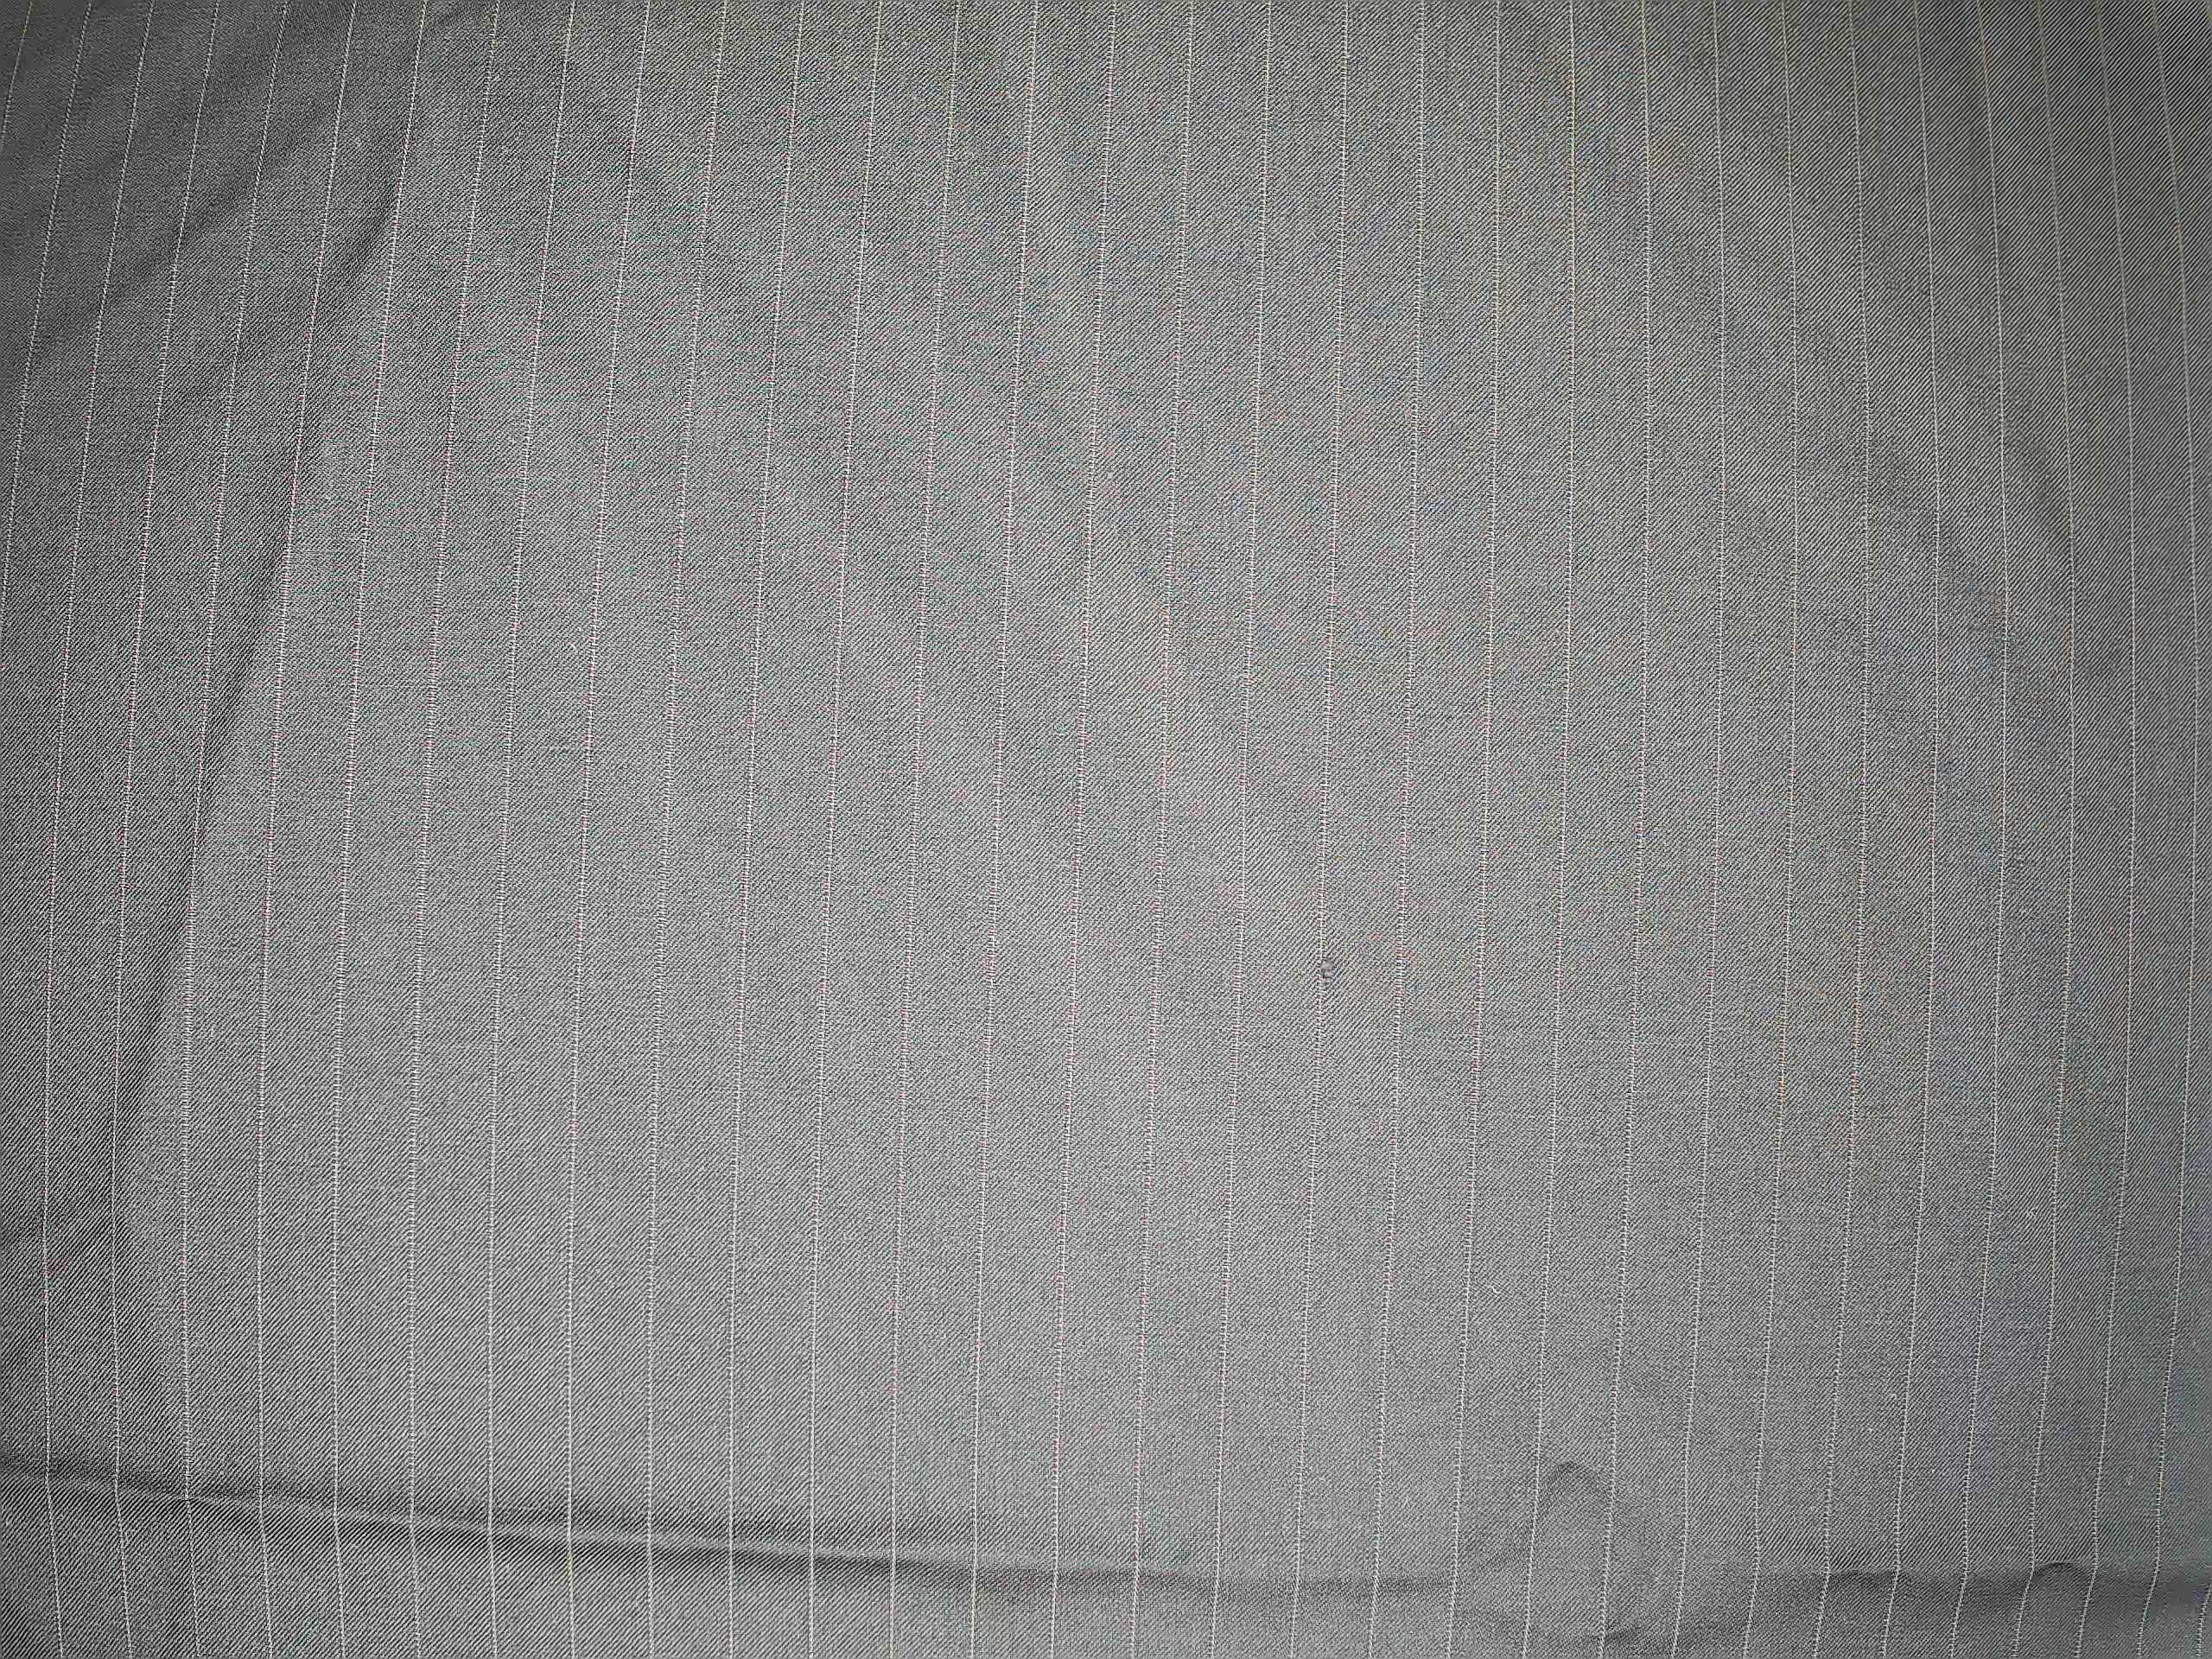others: (1287, 939, 1379, 1004)
